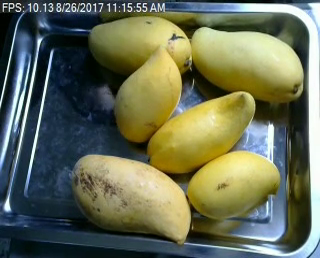Mango: (72, 152, 191, 245), (148, 90, 258, 174), (191, 25, 302, 99), (113, 46, 182, 140), (187, 149, 278, 217), (89, 15, 191, 73)
